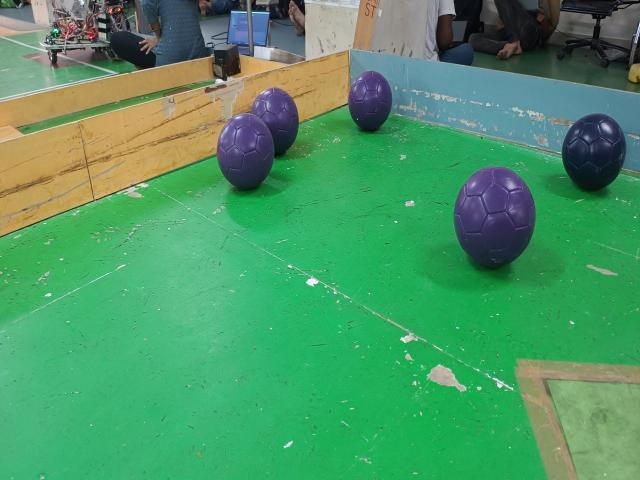jambhalya: (454, 167, 536, 268), (216, 113, 275, 190), (251, 88, 299, 155), (349, 72, 392, 132)
kaalyya: (561, 113, 626, 190)
